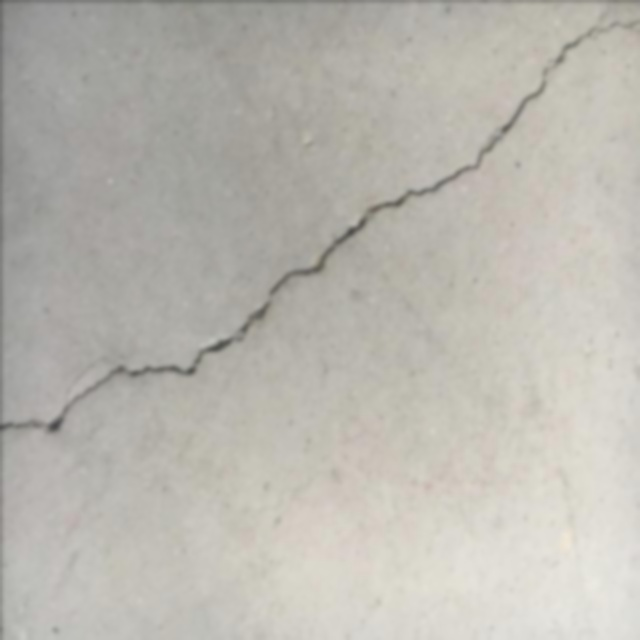SurfaceCrack: (0, 1, 639, 536)
